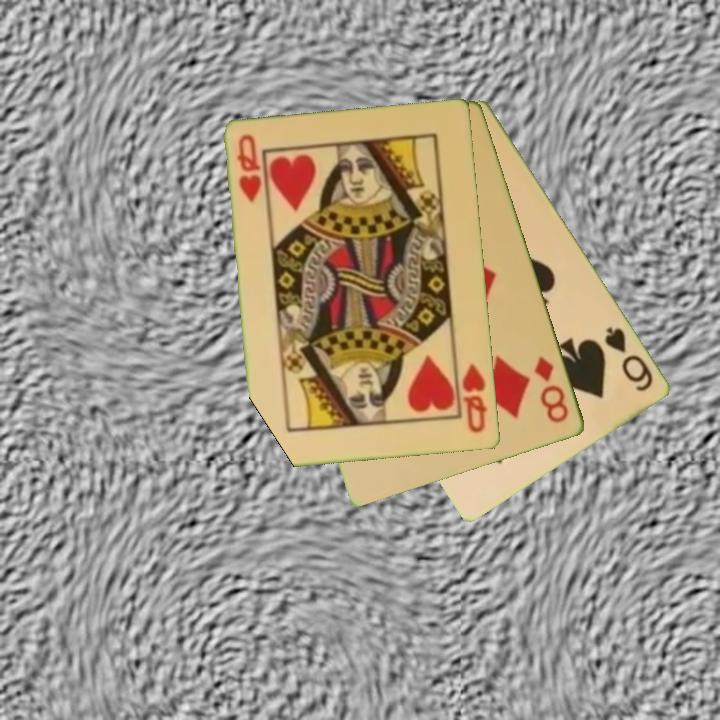6s: (601, 323, 657, 395)
8d: (531, 352, 572, 427)
Qh: (459, 360, 491, 436), (234, 131, 265, 206)
